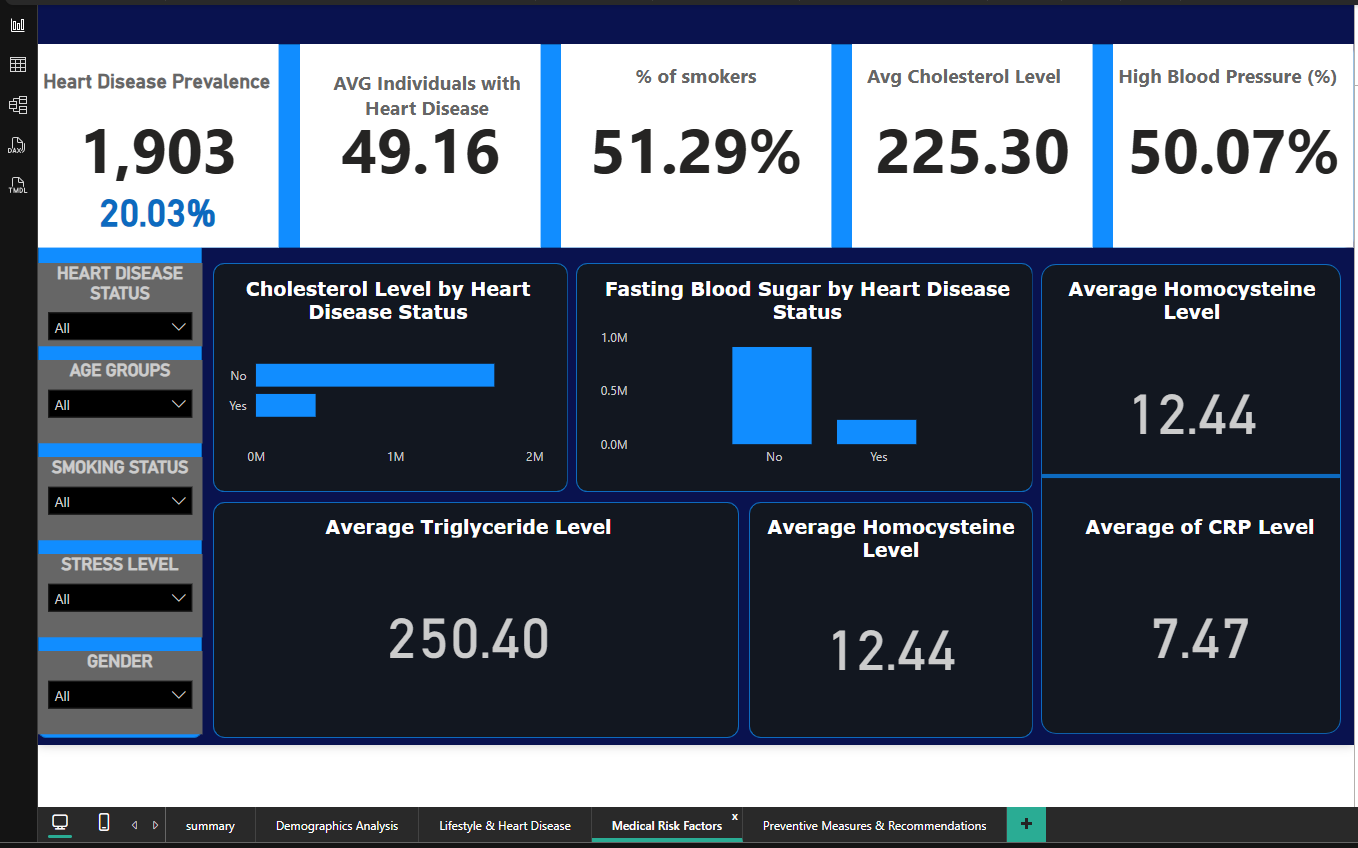

What the dashboard file says about the page in this screenshot:
{"tool":"powerbi","page":{"name":"Medical Risk Factors","canvas":[1280,720],"ordinal":3},"visuals":[{"type":"shape","box":[0,37.9,1280,198.4],"z":0},{"type":"shape","box":[0,37.9,159.5,675],"z":1000},{"type":"card","fields":{"Values":["Measures (2).Has Heart disease"]},"box":[0,37.9,234.4,198.4],"z":2000},{"type":"textbox","box":[0,57.4,233.4,72.9],"z":3000},{"type":"card","fields":{"Values":["Measures (2).Heart Disease Prevalence (%)"]},"box":[30.2,172.2,172.2,54.5],"z":4000},{"type":"card","fields":{"Values":["Measures (2).Average Age of Individuals with Heart Disease"]},"box":[254.3,37.9,234.4,198.4],"z":5000},{"type":"textbox","box":[261.6,57.4,233.4,86.6],"z":6000},{"type":"card","fields":{"Values":["Measures (2).% of smokers"]},"box":[508.7,37.9,262.6,198.4],"z":7000},{"type":"textbox","box":[523.3,50.6,233.4,73.9],"z":8000},{"type":"card","fields":{"Values":["Measures (2).Avg Cholesterole level"]},"box":[791.2,37.9,234.4,198.4],"z":9000},{"type":"textbox","box":[784,50.6,233.4,73.9],"z":10000},{"type":"card","fields":{"Values":["Measures (2).individuals with HBP (%)"]},"box":[1045.6,37.9,234.4,198.4],"z":11000},{"type":"shape","box":[170.2,250.9,345.3,222.7],"z":12000},{"type":"textbox","box":[1045.6,50.6,234.4,61.3],"z":13000},{"type":"shape","box":[170.2,483.4,511.6,229.5],"z":14000},{"type":"shape","box":[523.3,250.9,444.5,222.7],"z":15000},{"type":"shape","box":[691.6,483.4,276.2,229.5],"z":16000},{"type":"slicer","title":"HEART DISEASE STATUS","fields":{"Values":["heart_disease.Heart Disease Status"]},"box":[0,250.9,159.5,80.7],"z":17000},{"type":"slicer","title":"AGE GROUPS","fields":{"Values":["heart_disease.Age Group"]},"box":[0,345.3,159.5,80.7],"z":18000},{"type":"slicer","title":"SMOKING STATUS","fields":{"Values":["heart_disease.Smoking"]},"box":[0,439.6,159.5,80.7],"z":19000},{"type":"slicer","title":"STRESS LEVEL","fields":{"Values":["heart_disease.Stress Level"]},"box":[0,534,159.5,80.7],"z":20000},{"type":"slicer","title":"GENDER","fields":{"Values":["heart_disease.Gender"]},"box":[0,628.3,159.5,80.7],"z":21000},{"type":"shape","box":[975.6,251.9,291.8,457.1],"z":22000},{"type":"barChart","fields":{"Category":["heart_disease.Heart Disease Status"],"Y":["Sum(heart_disease.Cholesterol Level)"]},"box":[179,263.6,322.9,193.6],"z":23000},{"type":"clusteredColumnChart","fields":{"Y":["Sum(heart_disease.Fasting Blood Sugar)"],"Category":["heart_disease.Heart Disease Status"]},"box":[541.8,263.6,413.4,193.6],"z":24000},{"type":"card","title":"Average Homocysteine Level","fields":{"Values":["Avg(heart_disease.Homocysteine Level)"]},"box":[703.2,495.1,252.9,205.2],"z":25000},{"type":"card","title":"Average Triglyceride Level","fields":{"Values":["Avg(heart_disease.Triglyceride Level)"]},"box":[179,495.1,479.5,205.2],"z":26000},{"type":"card","title":"Average Homocysteine Level","fields":{"Values":["Avg(heart_disease.Homocysteine Level)"]},"box":[986.3,263.6,272.3,210.1],"z":27000},{"type":"card","title":"Average of CRP Level","fields":{"Values":["Avg(heart_disease.CRP Level)"]},"box":[980.4,495.1,299.6,205.2],"z":28000},{"type":"shape","box":[975.6,417.3,291.8,81.7],"z":29000}]}

Visuals, with their boxes on the page's 1280x720 design canvas (x1, y1, x2, y2). These are canvas units, not pixel positions in the 1358x848 screenshot, which may show the page scaled, cropped or inside an application window:
shape: x1=0, y1=38, x2=1280, y2=236
shape: x1=0, y1=38, x2=160, y2=713
card - Measures (2).Has Heart disease: x1=0, y1=38, x2=234, y2=236
textbox: x1=0, y1=57, x2=233, y2=130
card - Measures (2).Heart Disease Prevalence (%): x1=30, y1=172, x2=202, y2=227
card - Measures (2).Average Age of Individuals with Heart Disease: x1=254, y1=38, x2=489, y2=236
textbox: x1=262, y1=57, x2=495, y2=144
card - Measures (2).% of smokers: x1=509, y1=38, x2=771, y2=236
textbox: x1=523, y1=51, x2=757, y2=124
card - Measures (2).Avg Cholesterole level: x1=791, y1=38, x2=1026, y2=236
textbox: x1=784, y1=51, x2=1017, y2=124
card - Measures (2).individuals with HBP (%): x1=1046, y1=38, x2=1280, y2=236
shape: x1=170, y1=251, x2=516, y2=474
textbox: x1=1046, y1=51, x2=1280, y2=112
shape: x1=170, y1=483, x2=682, y2=713
shape: x1=523, y1=251, x2=968, y2=474
shape: x1=692, y1=483, x2=968, y2=713
"HEART DISEASE STATUS" slicer: x1=0, y1=251, x2=160, y2=332
"AGE GROUPS" slicer: x1=0, y1=345, x2=160, y2=426
"SMOKING STATUS" slicer: x1=0, y1=440, x2=160, y2=520
"STRESS LEVEL" slicer: x1=0, y1=534, x2=160, y2=615
"GENDER" slicer: x1=0, y1=628, x2=160, y2=709
shape: x1=976, y1=252, x2=1267, y2=709
barChart - heart_disease.Heart Disease Status x Sum(heart_disease.Cholesterol Level): x1=179, y1=264, x2=502, y2=457
clusteredColumnChart - Sum(heart_disease.Fasting Blood Sugar) x heart_disease.Heart Disease Status: x1=542, y1=264, x2=955, y2=457
"Average Homocysteine Level" card: x1=703, y1=495, x2=956, y2=700
"Average Triglyceride Level" card: x1=179, y1=495, x2=658, y2=700
"Average Homocysteine Level" card: x1=986, y1=264, x2=1259, y2=474
"Average of CRP Level" card: x1=980, y1=495, x2=1280, y2=700
shape: x1=976, y1=417, x2=1267, y2=499
